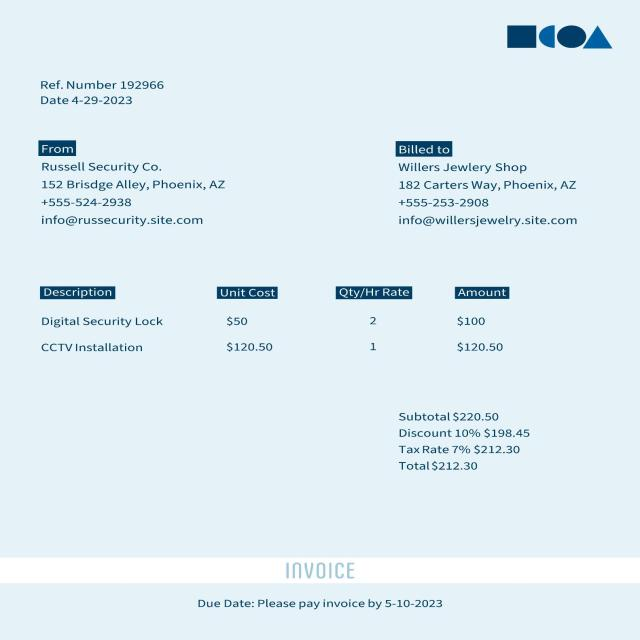paragraph: (34, 138, 235, 228), (395, 140, 589, 228), (392, 409, 533, 476), (32, 74, 173, 109), (195, 599, 445, 617), (280, 560, 360, 582)
table: (29, 278, 515, 356)
